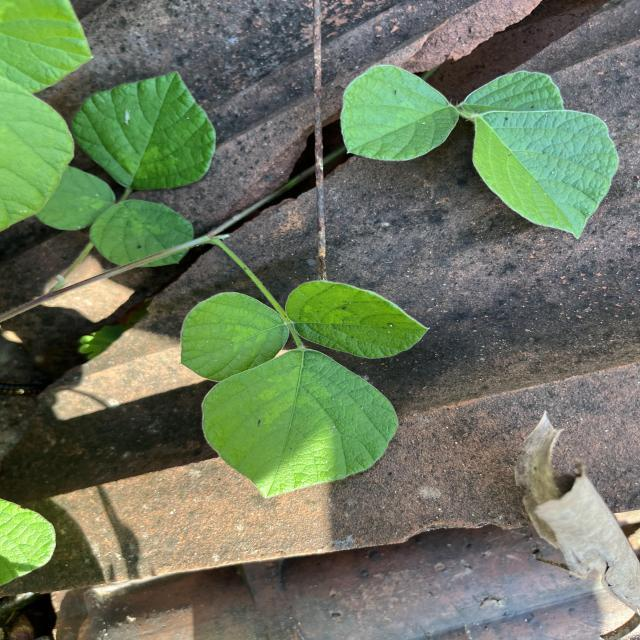Pseudarthria viscida: (177, 278, 432, 502), (338, 64, 622, 242), (33, 69, 219, 268)
